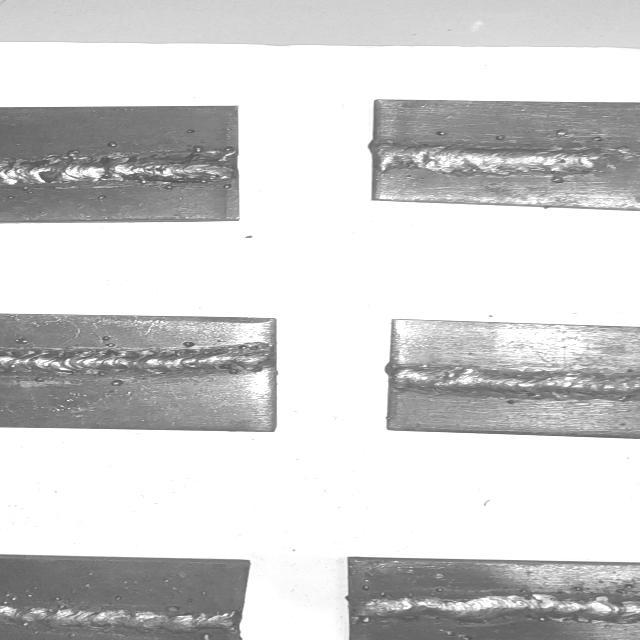Defect: (587, 142, 640, 178)
Welding Line: (372, 140, 640, 178), (0, 344, 273, 378), (350, 592, 640, 622), (394, 366, 640, 399), (0, 155, 236, 189), (0, 603, 236, 631)
Workpiece: (0, 314, 285, 434), (384, 318, 640, 444), (368, 97, 640, 211), (0, 101, 246, 224), (343, 554, 640, 640), (0, 552, 255, 639)
